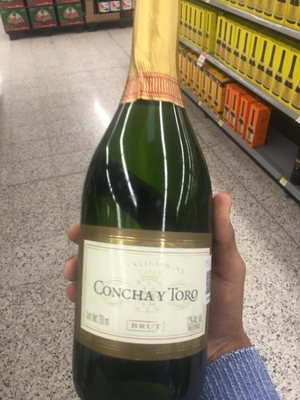brut: (73, 20, 219, 400)
